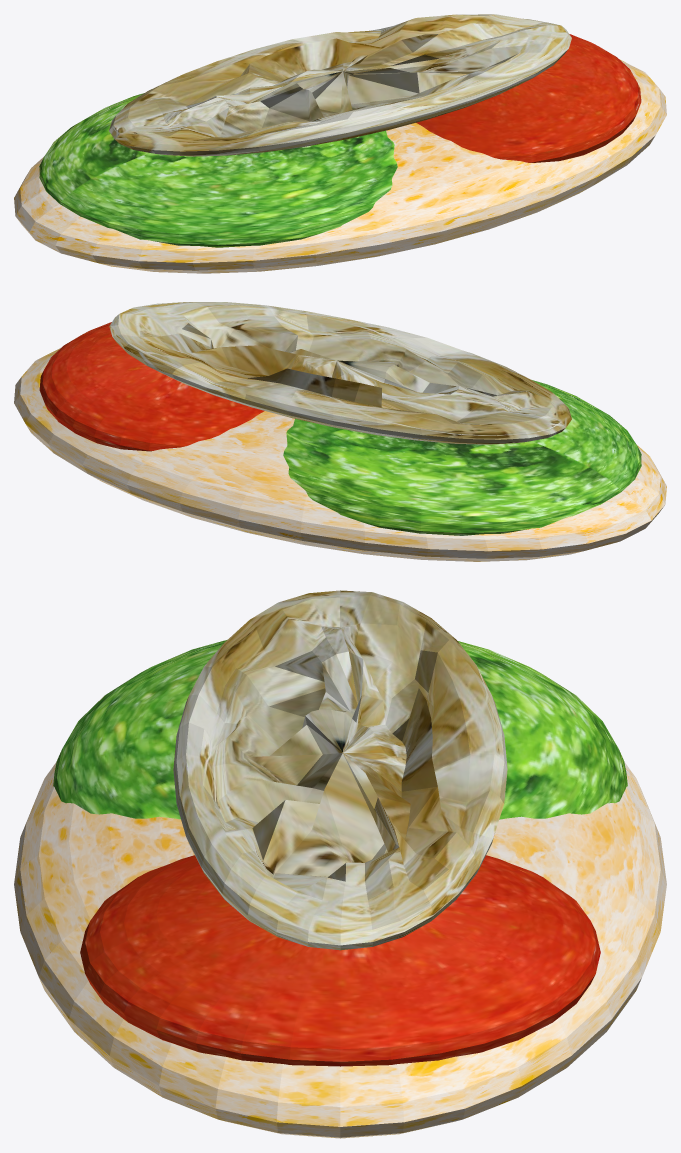
The model's file is memela-bandera-quesillo.glb.
3 views of the same model, one above another, from view 1: azimuth 30°, elevation 25°; view 2: azimuth 150°, elevation 25°; view 3: azimuth 270°, elevation 25° (orthographic). The views are drawn at different scales.
Visible parts, largest first — view 1: Sphere.001; view 2: Sphere.001; view 3: Sphere.001.
Boxes of the visible parts, box(x1,y1,x2,y2) form: Sphere.001: box(14, 14, 666, 273); Sphere.001: box(14, 302, 666, 561); Sphere.001: box(14, 590, 666, 1138).
Bounding box in the file's own units: 2 × 0.4357 × 1.14.
Materials: 4 (4 with a texture image).
